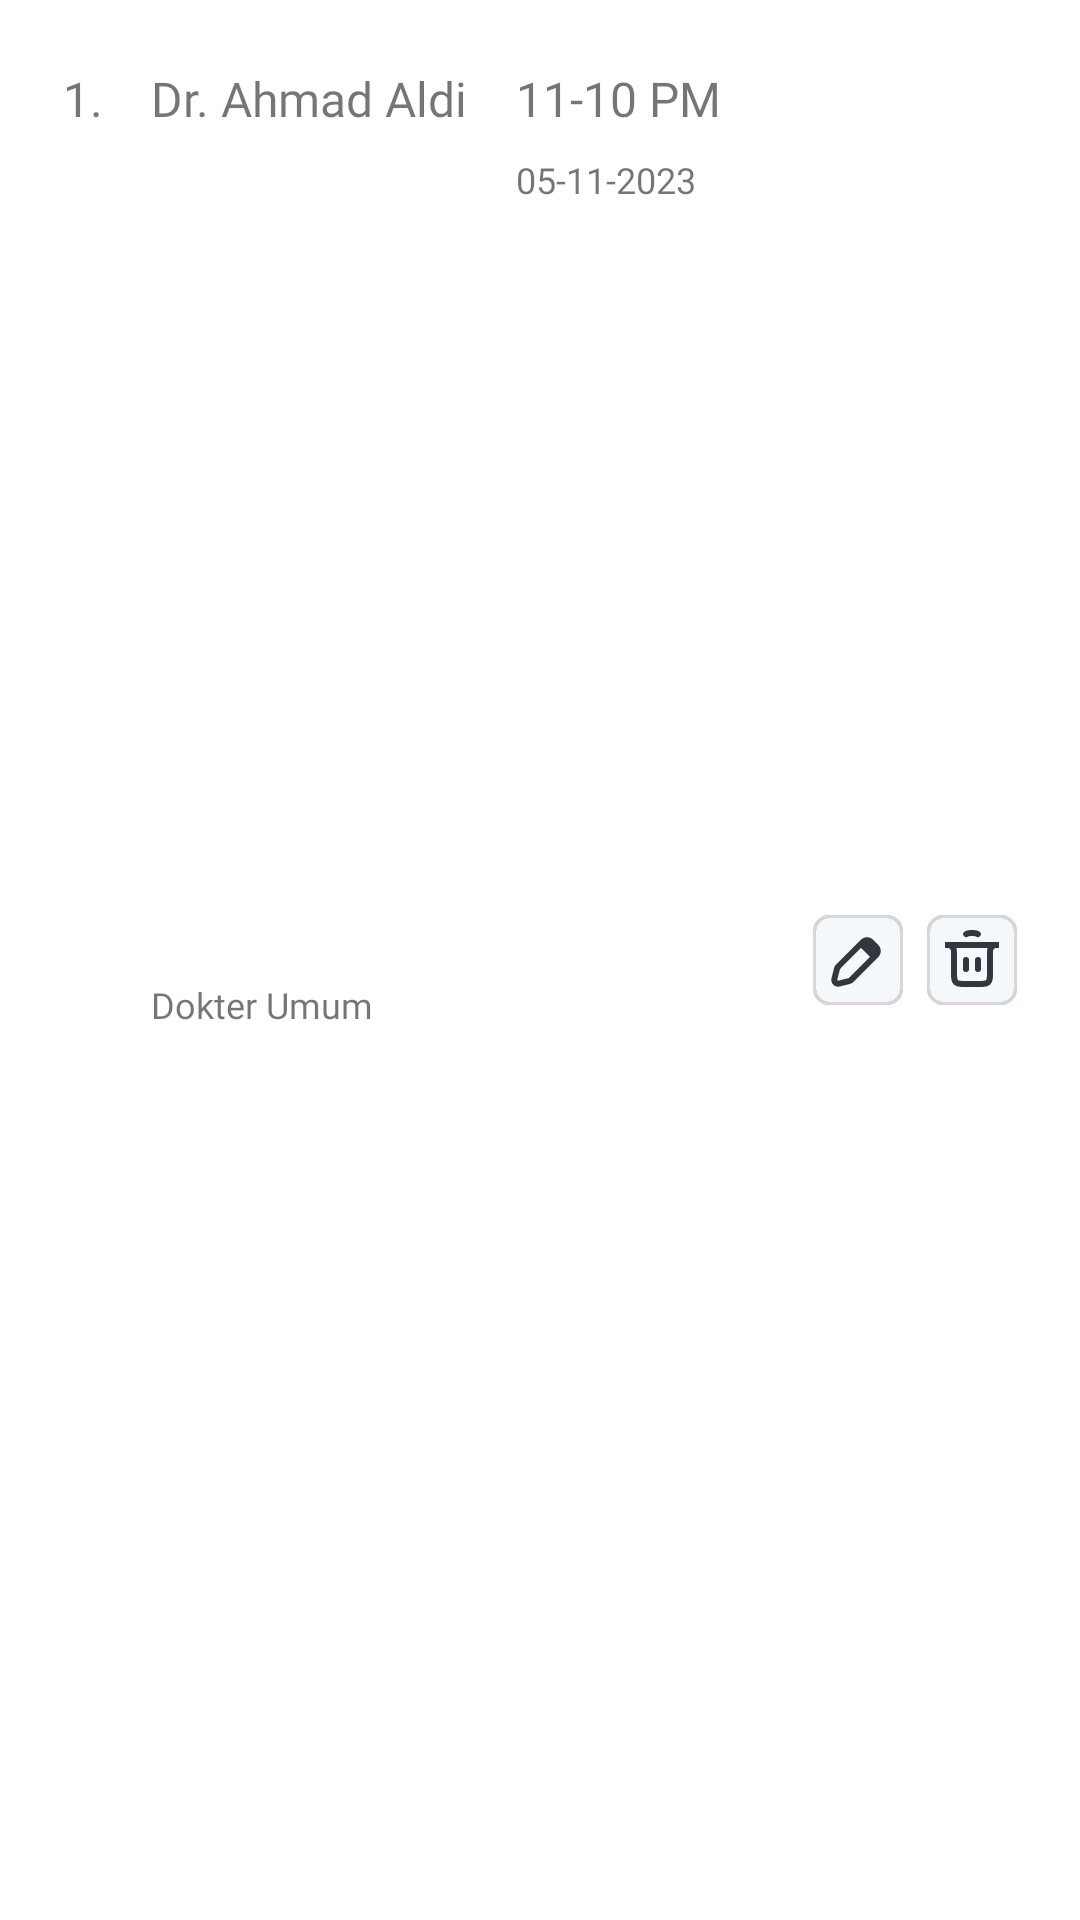

Where to tap for icons on this 1080 × 1920 app screen, as (x=x, y=y):
edit: (x=858, y=960)
trash: (x=972, y=960)
